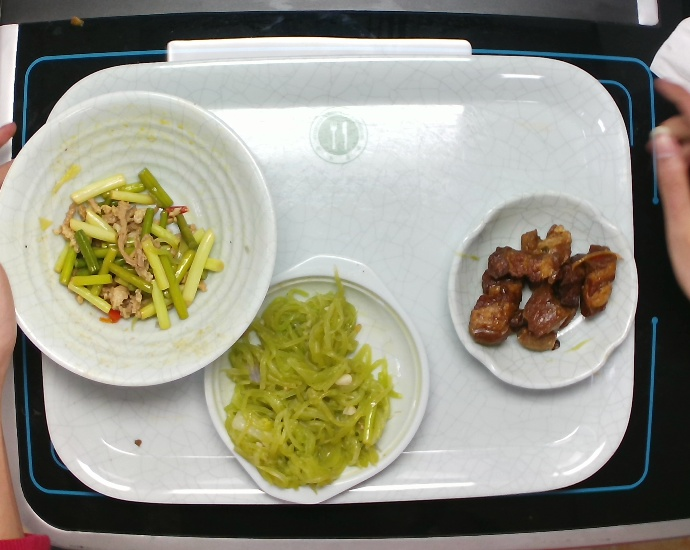JYsf-Ao_Yuan_Wan: (445, 186, 640, 396)
JYsf-Shuang_Er_Pan: (199, 248, 430, 505)
JYsf-Xiao_Tang_Wan: (6, 87, 276, 389)
